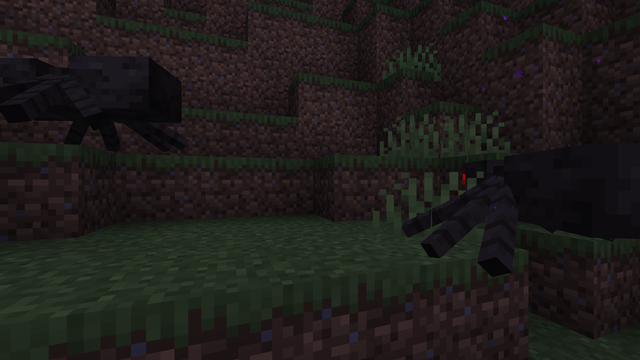araignees: (409, 127, 627, 296), (8, 24, 165, 152)
